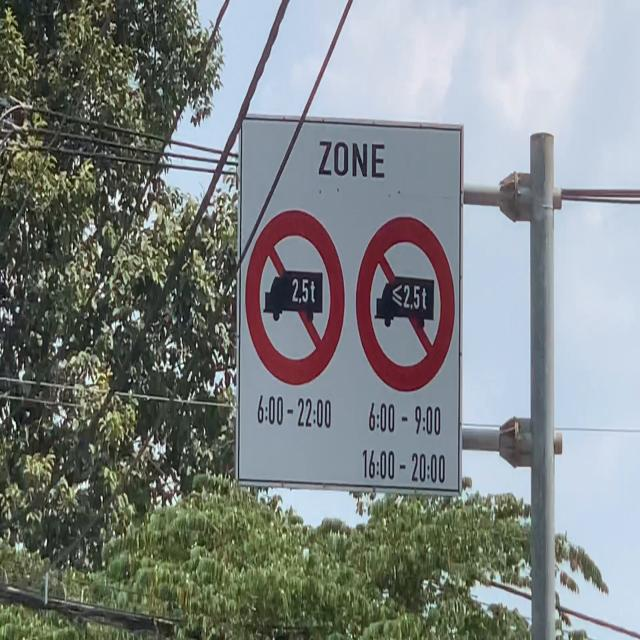Cam con lai: (244, 208, 346, 386), (355, 215, 455, 394)
